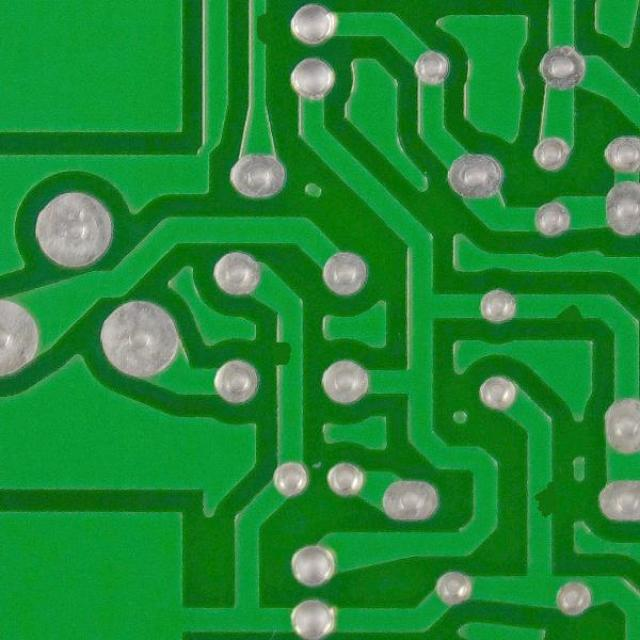MouseBite: (522, 473, 559, 528), (269, 330, 303, 380), (245, 6, 272, 54), (547, 300, 591, 326)
